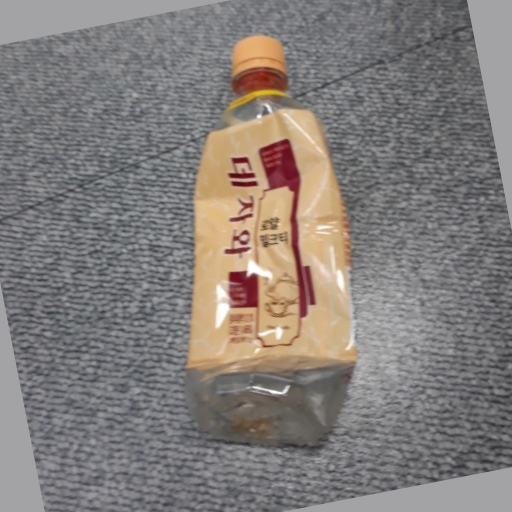Plastic_0: (183, 35, 359, 452)
